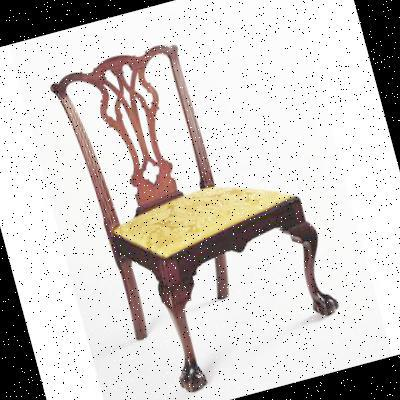Silla: (50, 26, 353, 399)
